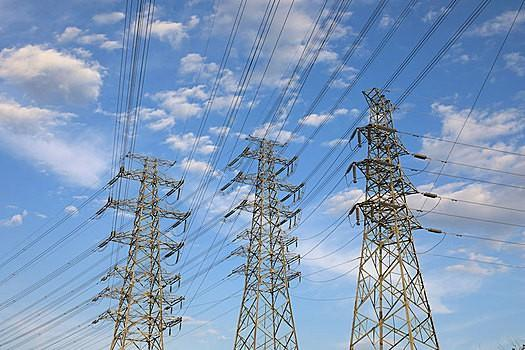power_tower: (326, 76, 445, 347), (99, 145, 192, 350), (225, 123, 305, 350)
